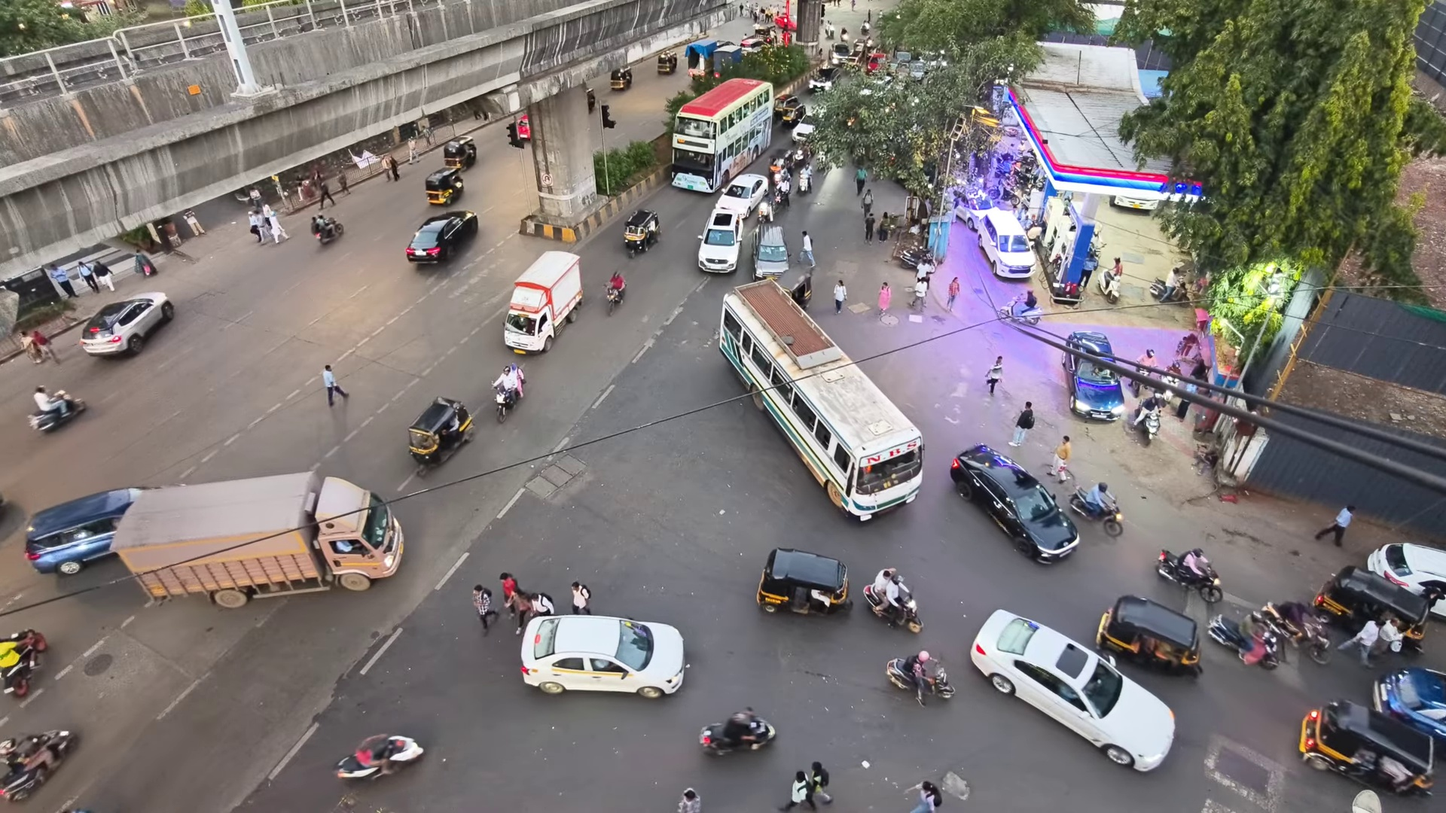driving: (718, 279, 924, 519), (111, 472, 402, 607), (970, 611, 1175, 771), (950, 444, 1078, 562), (521, 616, 685, 699), (1298, 700, 1433, 796), (1313, 565, 1435, 652), (25, 488, 142, 574), (1096, 595, 1200, 675), (504, 251, 581, 353), (756, 548, 852, 614), (79, 292, 173, 355), (1366, 543, 1445, 617), (1373, 667, 1445, 746), (1062, 330, 1124, 420), (0, 730, 78, 801), (408, 397, 474, 473), (1258, 602, 1335, 664), (971, 208, 1036, 279), (1207, 614, 1280, 670), (334, 735, 424, 779), (405, 210, 477, 263), (699, 708, 775, 755), (1157, 549, 1223, 603), (0, 629, 47, 698), (862, 580, 922, 633), (697, 209, 743, 273), (1069, 488, 1123, 536), (715, 173, 769, 218), (29, 390, 86, 432), (753, 224, 791, 279), (493, 364, 523, 423), (624, 209, 660, 258), (424, 167, 464, 205), (886, 658, 917, 691), (808, 65, 838, 93)
walking: (1338, 619, 1379, 665), (1314, 505, 1354, 546), (779, 770, 816, 810), (472, 585, 498, 634), (1372, 617, 1403, 656), (1009, 401, 1034, 447), (322, 364, 349, 406), (509, 590, 532, 635), (261, 204, 288, 242), (29, 330, 59, 364), (1050, 436, 1071, 483), (911, 780, 941, 812), (809, 762, 832, 803), (49, 265, 77, 297), (499, 571, 517, 614), (77, 260, 99, 291), (92, 260, 113, 291), (528, 593, 555, 617), (21, 335, 43, 364), (248, 209, 266, 244), (571, 581, 590, 614), (986, 355, 1002, 394), (677, 787, 701, 812), (801, 230, 816, 268), (319, 178, 336, 210), (134, 251, 155, 276), (911, 279, 928, 309), (877, 282, 891, 316), (381, 155, 398, 181), (946, 277, 959, 311), (834, 279, 847, 313), (877, 212, 890, 241), (861, 189, 873, 216), (249, 187, 263, 209), (856, 168, 867, 196), (337, 170, 349, 194), (865, 214, 875, 242), (407, 138, 416, 163)
